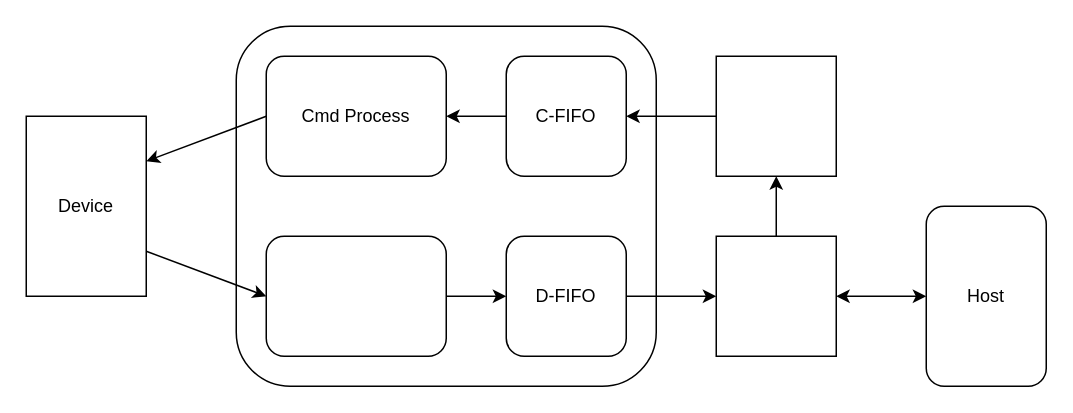
Some shapes in this 1073 by 413 pixel diagram are drawn without their labels. The shapes that lost their labels are listed below. From the top down, each one's centre as x and y in pixels, then its label:
point (775, 115): Command MCU
point (355, 295): Data Process
point (775, 295): Data MCU
